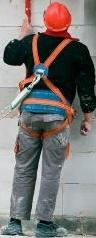boots: (34, 221, 66, 237), (0, 217, 23, 234)
hard-hat: (42, 1, 70, 32)
